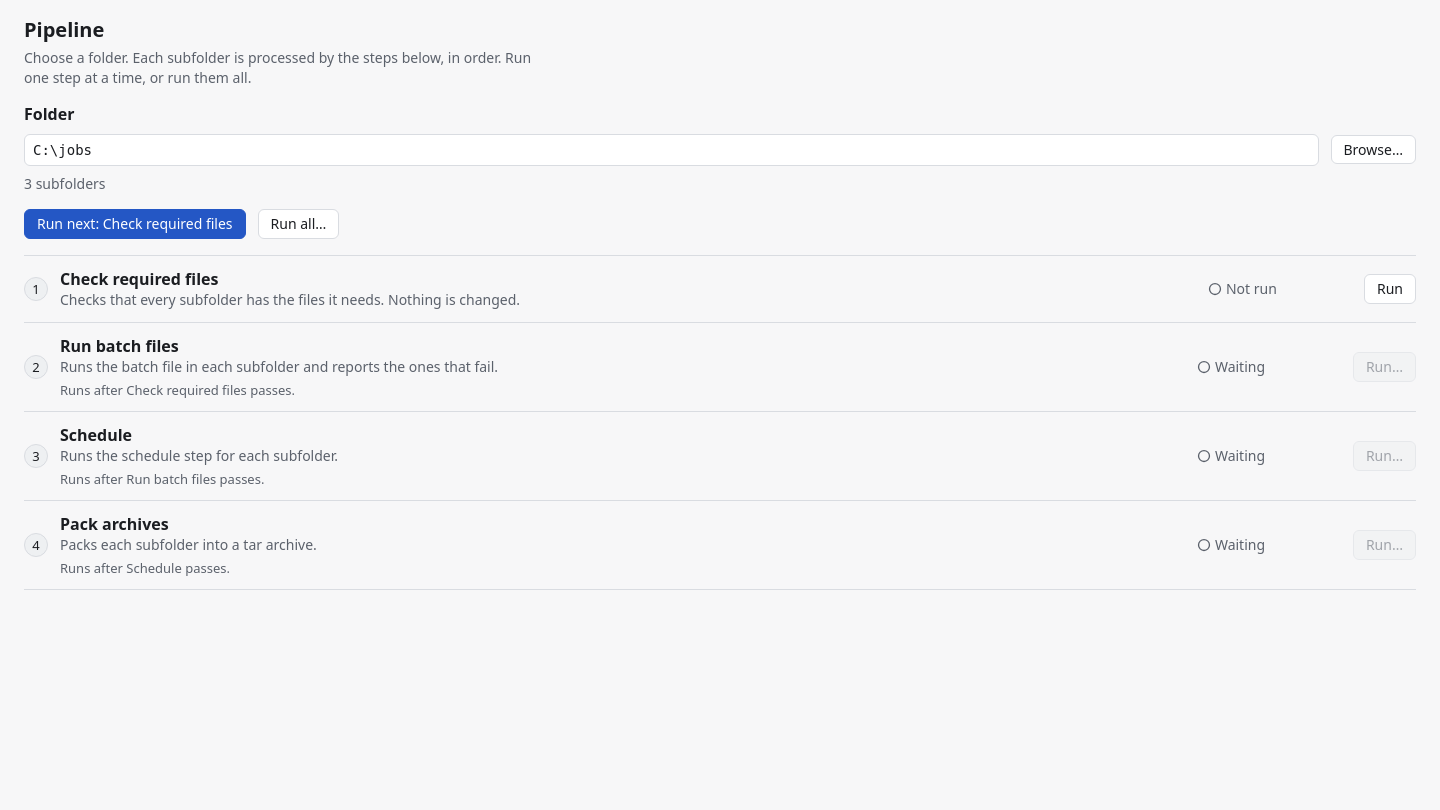
a step that cannot start shows an error banner
The image size is (1440, 810).
Expected: the field labelled "Folder" is shown, [24, 134, 1318, 166]
Click the button with aria-label "Run Check required files": point(1390, 289) [1364, 274, 1416, 304]
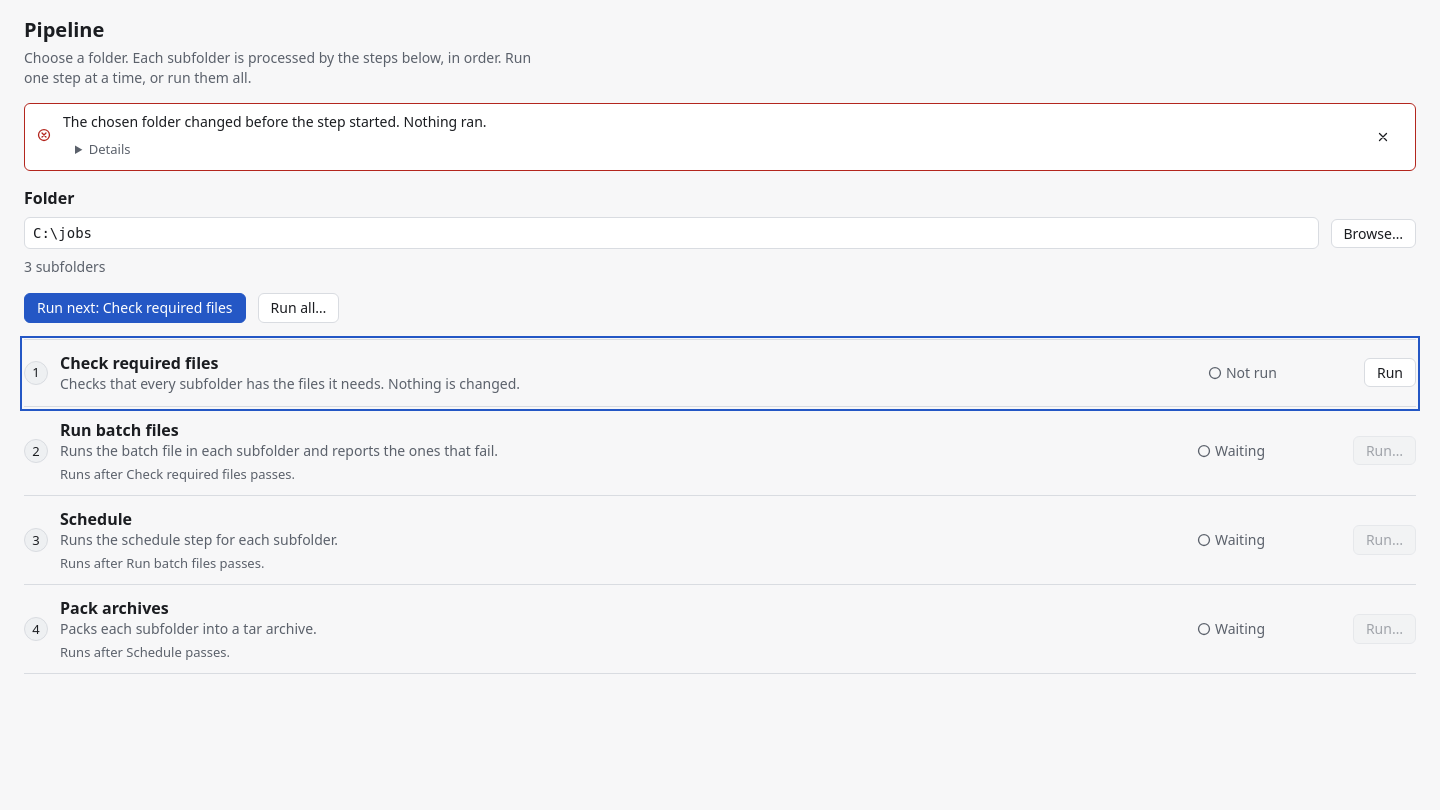
Result: the message shows "The chosen folder changed" at [63, 112, 487, 131]
